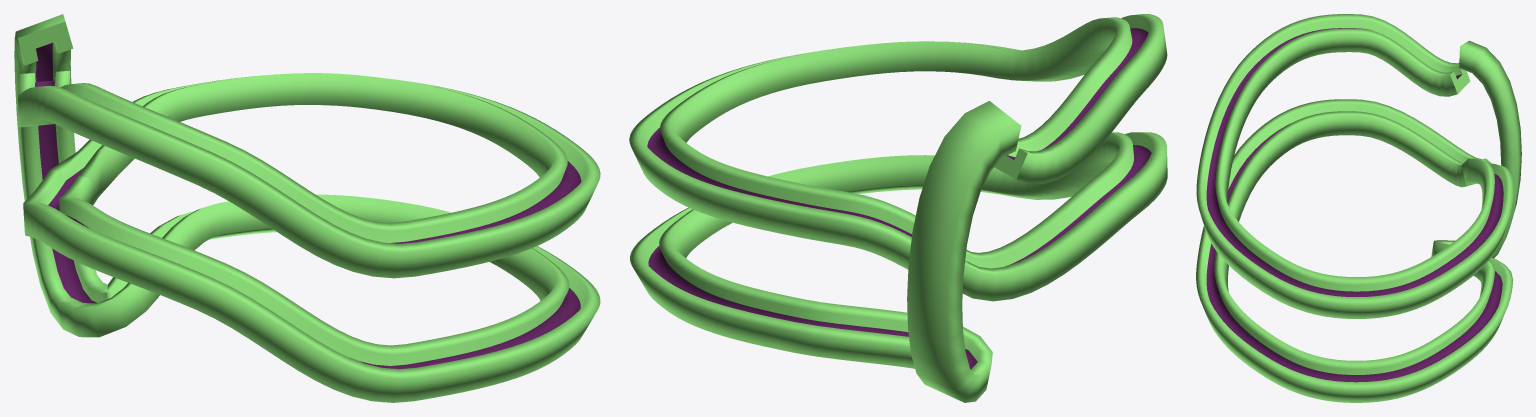
Rendered from upgradelevel2.fbx.
The picture shows the model from 3 angles, left to right: view 1: azimuth 30°, elevation 25°; view 2: azimuth 150°, elevation 25°; view 3: azimuth 270°, elevation 25°; orthographic projection. The views are drawn at different scales.
Visible parts, largest first — view 1: upgradelevel2; view 2: upgradelevel2; view 3: upgradelevel2.
Part boxes in pixels (bbox=[...]): upgradelevel2: bbox=[14, 14, 600, 402]; upgradelevel2: bbox=[629, 14, 1167, 402]; upgradelevel2: bbox=[1196, 14, 1521, 402].
Size of the model in its own units: 1152 by 693 by 915.
